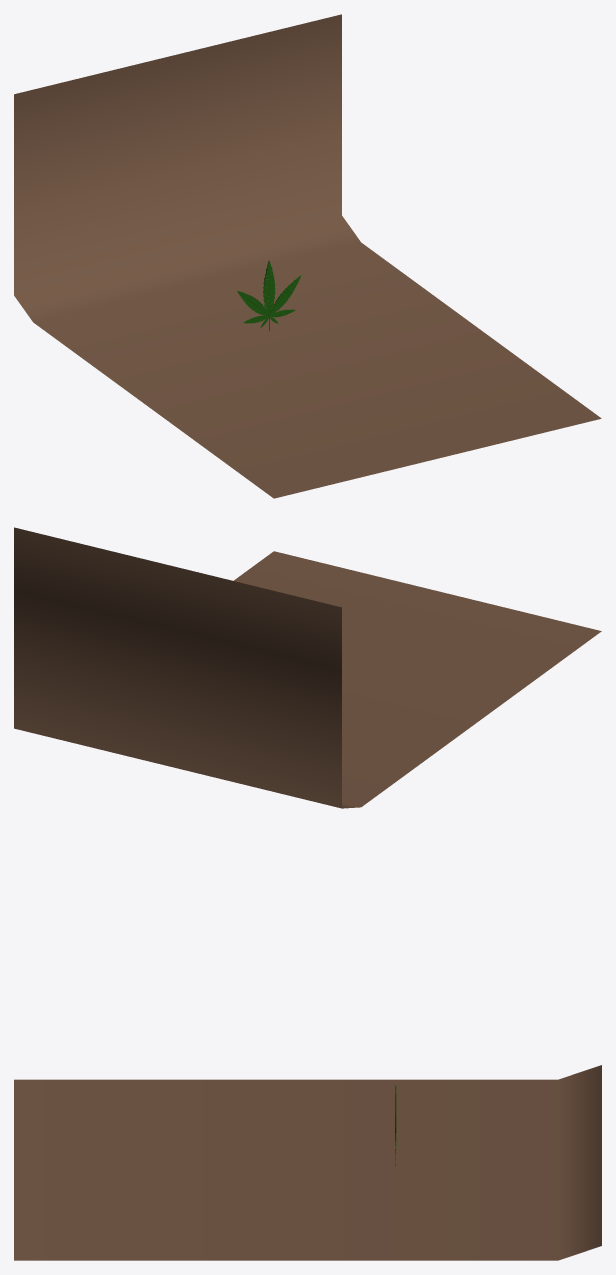
File: uploads_files_2783190_Marijuana.glb
The picture shows the model from 3 angles, top to bottom: view 1: azimuth 30°, elevation 25°; view 2: azimuth 150°, elevation 25°; view 3: azimuth 270°, elevation 25°; orthographic projection. The views are drawn at different scales.
Visible parts, largest first — view 1: Plane, Leaf; view 2: Plane; view 3: Plane.
Boxes of the visible parts, left/top/right/bottom form: Plane: left=14, top=14, right=601, bottom=498; Leaf: left=237, top=260, right=301, bottom=331; Plane: left=14, top=527, right=601, bottom=808; Plane: left=14, top=1065, right=601, bottom=1260.
Bounding box in the file's own units: 10.21 × 6.37 × 14.02.
